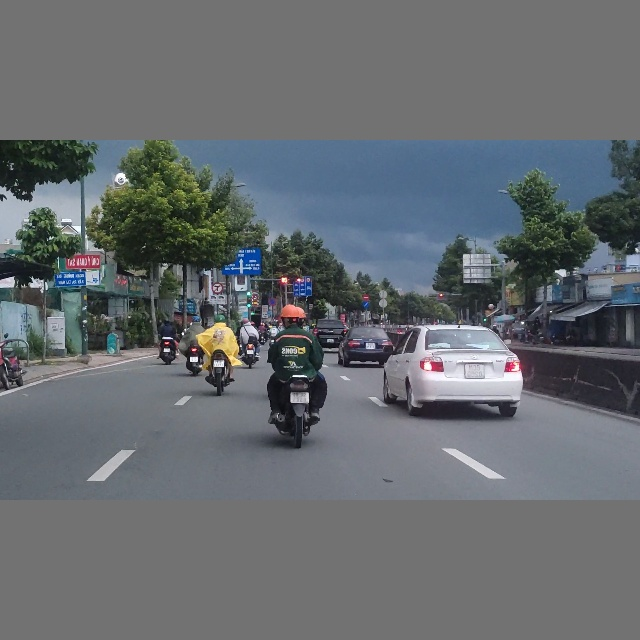P.102: (362, 294, 369, 301)
P.131a: (269, 298, 276, 306)
P.137: (211, 282, 223, 294)
R.302a: (362, 302, 369, 308)
R.415a: (293, 282, 312, 296)
